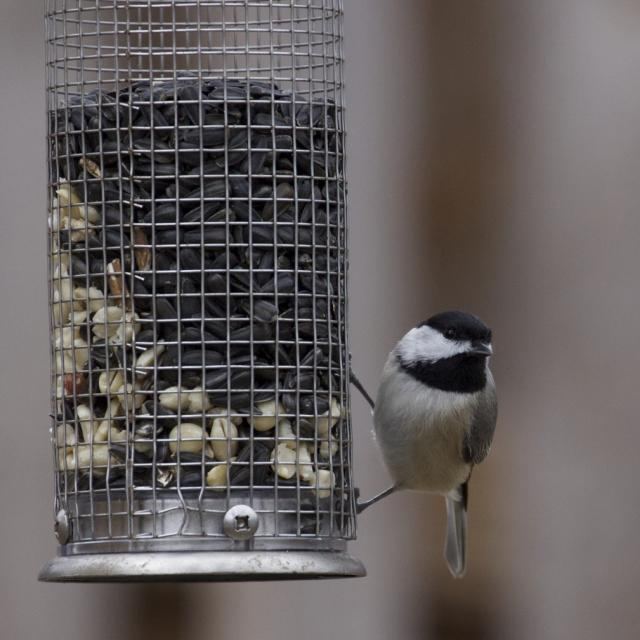bird: (361, 302, 509, 588)
